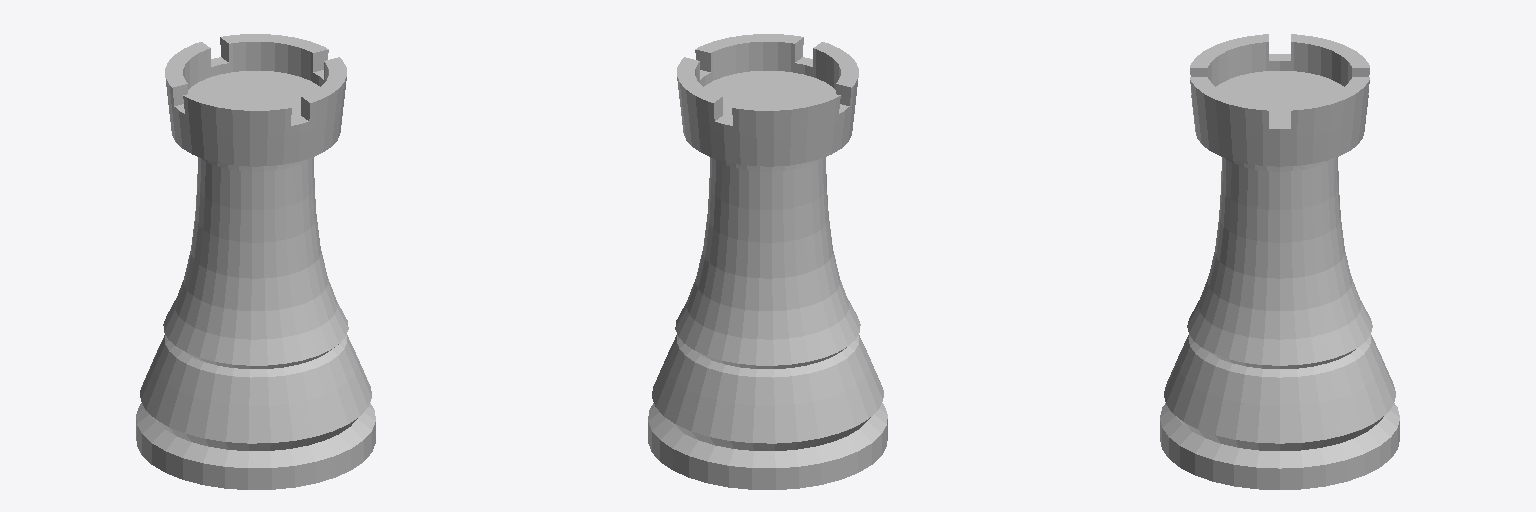
Rendered from enemy.obj.
The picture shows the model from 3 angles: view 1: azimuth 30°, elevation 25°; view 2: azimuth 150°, elevation 25°; view 3: azimuth 270°, elevation 25°; orthographic projection.
Parts seen in each view (by area): view 1: Cylinder_Cylinder.001; view 2: Cylinder_Cylinder.001; view 3: Cylinder_Cylinder.001.
Part boxes in pixels (bbox=[...]): Cylinder_Cylinder.001: bbox=[136, 34, 375, 489]; Cylinder_Cylinder.001: bbox=[648, 34, 887, 489]; Cylinder_Cylinder.001: bbox=[1160, 34, 1399, 489].
Size of the model in its own units: 2.25 by 3.79 by 2.25.